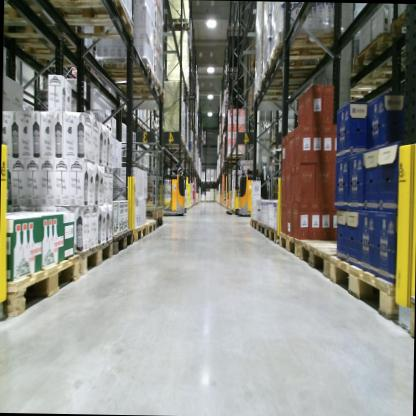pallet: (3, 250, 80, 324), (326, 255, 400, 321), (43, 0, 137, 42), (268, 27, 341, 71), (3, 0, 68, 47), (351, 29, 412, 78), (298, 237, 362, 279), (21, 46, 93, 81), (276, 226, 351, 259), (90, 56, 159, 89), (258, 57, 320, 91), (74, 237, 113, 274), (254, 82, 318, 103), (384, 5, 413, 43), (110, 81, 166, 100), (108, 226, 134, 256), (141, 203, 166, 223), (126, 224, 147, 245), (138, 218, 158, 235), (265, 216, 277, 243), (164, 16, 191, 28), (225, 150, 248, 161), (249, 212, 258, 230), (258, 218, 266, 234)
pallet_truck: (231, 155, 285, 219), (147, 152, 189, 217)
